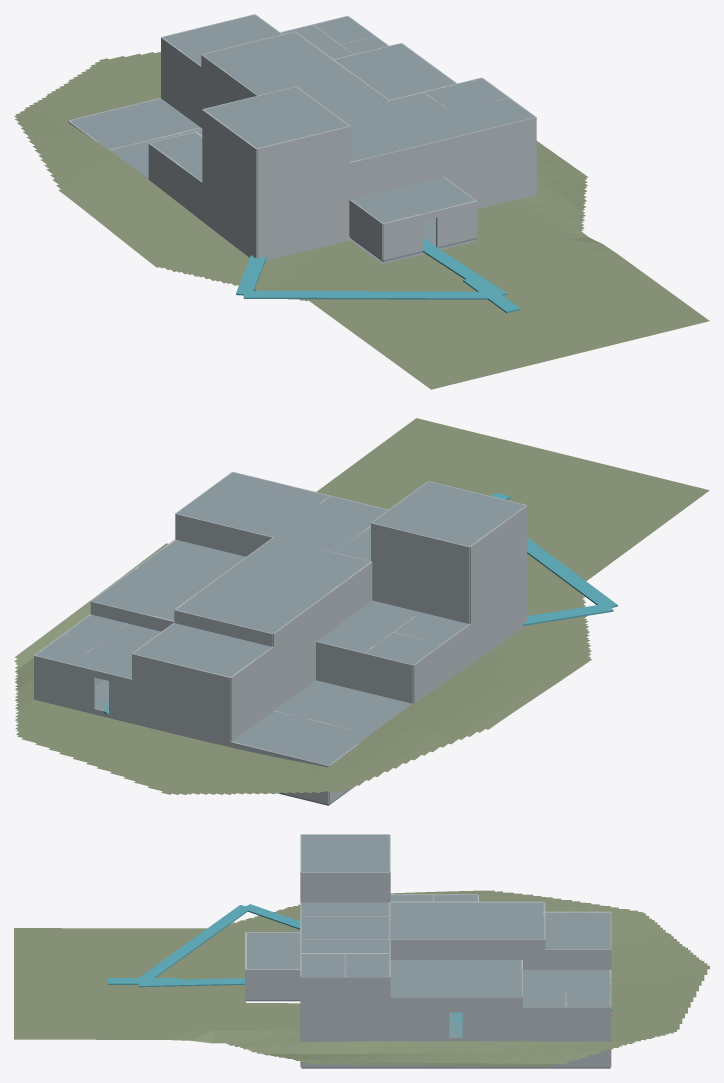
File: terrain-assembly.glb
3 views of the same model, one above another, from view 1: azimuth 30°, elevation 25°; view 2: azimuth 150°, elevation 25°; view 3: azimuth 270°, elevation 25° (orthographic). The views are drawn at different scales.
Visible parts, largest first — view 1: Saved editor macroterrain CHURCH, Ceiling cap nave, Ceiling cap belfry, Ceiling cap chapel, Wall belfry S, Wall tower-stair S, Ceiling cap choir, Ceiling cap vestibule, Wall crypt-entry S, Ceiling cap chancel, Wall chancel W, Ceiling cap vault-north (+29 smaller); view 2: Saved editor macroterrain CHURCH, Ceiling cap nave, Wall chancel N, Ceiling cap chapel, Ceiling cap belfry, Wall nave W, Ceiling cap chancel, Wall belfry N, Wall tower-stair N, Ceiling cap choir, Wall chancel W, Ceiling cap vault-north (+32 smaller); view 3: Saved editor macroterrain CHURCH, Ceiling cap nave, Ceiling cap chapel, Ceiling cap belfry, Wall crypt-entry E, Wall belfry E, Ceiling cap chancel, Wall chapel E, Wall chapel E.001, Ceiling cap choir, Ceiling cap vestibule, Ceiling cap vestry (+21 smaller).
Boxes of the visible parts, x1=… form: Saved editor macroterrain CHURCH: x1=14, y1=51, x2=709, y2=389; Ceiling cap nave: x1=202, y1=32, x2=388, y2=113; Ceiling cap belfry: x1=203, y1=87, x2=348, y2=148; Ceiling cap chapel: x1=334, y1=43, x2=455, y2=99; Wall belfry S: x1=256, y1=126, x2=350, y2=185; Wall tower-stair S: x1=256, y1=163, x2=350, y2=221; Ceiling cap choir: x1=335, y1=101, x2=441, y2=153; Ceiling cap vestibule: x1=350, y1=177, x2=475, y2=223; Wall crypt-entry S: x1=444, y1=154, x2=535, y2=204; Ceiling cap chancel: x1=162, y1=14, x2=281, y2=65; Wall chancel W: x1=161, y1=37, x2=201, y2=127; Ceiling cap vault-north: x1=69, y1=98, x2=187, y2=140; Saved editor macroterrain CHURCH: x1=14, y1=418, x2=709, y2=794; Ceiling cap nave: x1=175, y1=537, x2=370, y2=633; Wall chancel N: x1=132, y1=654, x2=230, y2=741; Ceiling cap chapel: x1=92, y1=540, x2=245, y2=620; Ceiling cap belfry: x1=372, y1=481, x2=525, y2=546; Wall nave W: x1=273, y1=585, x2=340, y2=710; Ceiling cap chancel: x1=133, y1=623, x2=271, y2=676; Wall belfry N: x1=371, y1=523, x2=469, y2=585; Wall tower-stair N: x1=372, y1=562, x2=469, y2=623; Ceiling cap choir: x1=274, y1=496, x2=387, y2=552; Wall chancel W: x1=230, y1=646, x2=273, y2=741; Ceiling cap vault-north: x1=232, y1=721, x2=356, y2=765; Saved editor macroterrain CHURCH: x1=14, y1=890, x2=709, y2=1066; Ceiling cap nave: x1=389, y1=902, x2=544, y2=939; Ceiling cap chapel: x1=390, y1=960, x2=522, y2=996; Ceiling cap belfry: x1=301, y1=834, x2=389, y2=871; Wall crypt-entry E: x1=301, y1=1007, x2=389, y2=1037; Wall belfry E: x1=301, y1=872, x2=389, y2=902; Ceiling cap chancel: x1=545, y1=912, x2=610, y2=949; Wall chapel E: x1=462, y1=997, x2=522, y2=1037; Wall chapel E.001: x1=389, y1=997, x2=449, y2=1037; Ceiling cap choir: x1=301, y1=916, x2=389, y2=939; Ceiling cap vestibule: x1=247, y1=932, x2=300, y2=969; Ceiling cap vestry: x1=523, y1=970, x2=610, y2=992.
Size of the model in its own units: 36 by 12.16 by 63.
